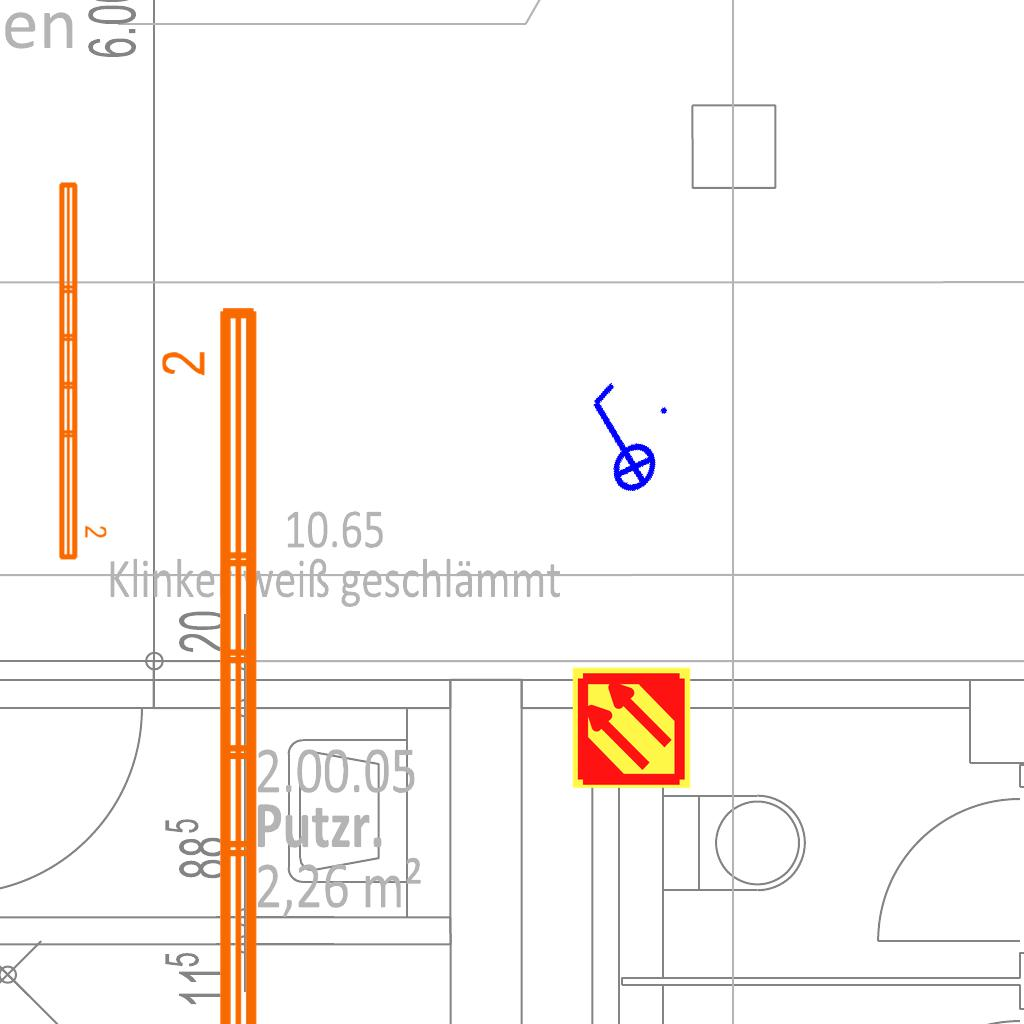ASR_Ansaugrauchmelder: (569, 665, 694, 790)
Ambulanz_Pendelleuchte_LED: (157, 299, 269, 1024), (53, 177, 109, 564)
Ausschalter_beleuchtet: (550, 368, 688, 512)
